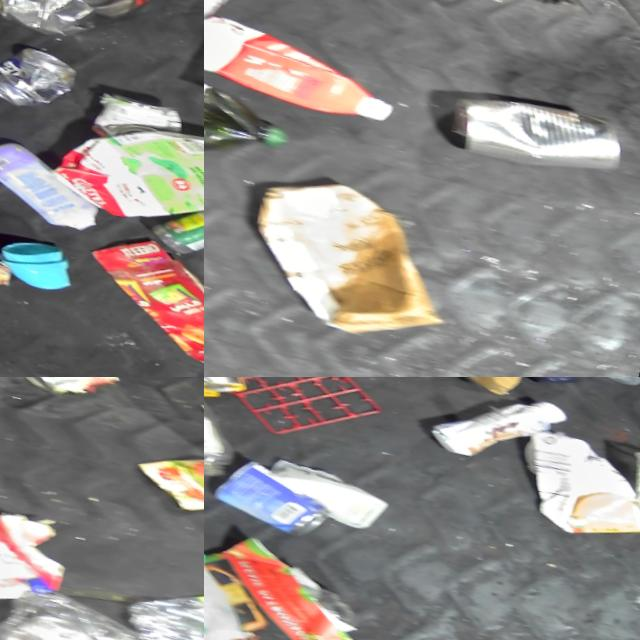can: (435, 78, 633, 198), (204, 449, 338, 549), (0, 36, 81, 118), (0, 0, 96, 46), (20, 377, 122, 404)
non_white_jug: (204, 0, 402, 135), (500, 425, 640, 556), (204, 39, 294, 178), (0, 0, 204, 41)
plastic_bottle: (124, 571, 204, 640), (204, 384, 244, 484)
